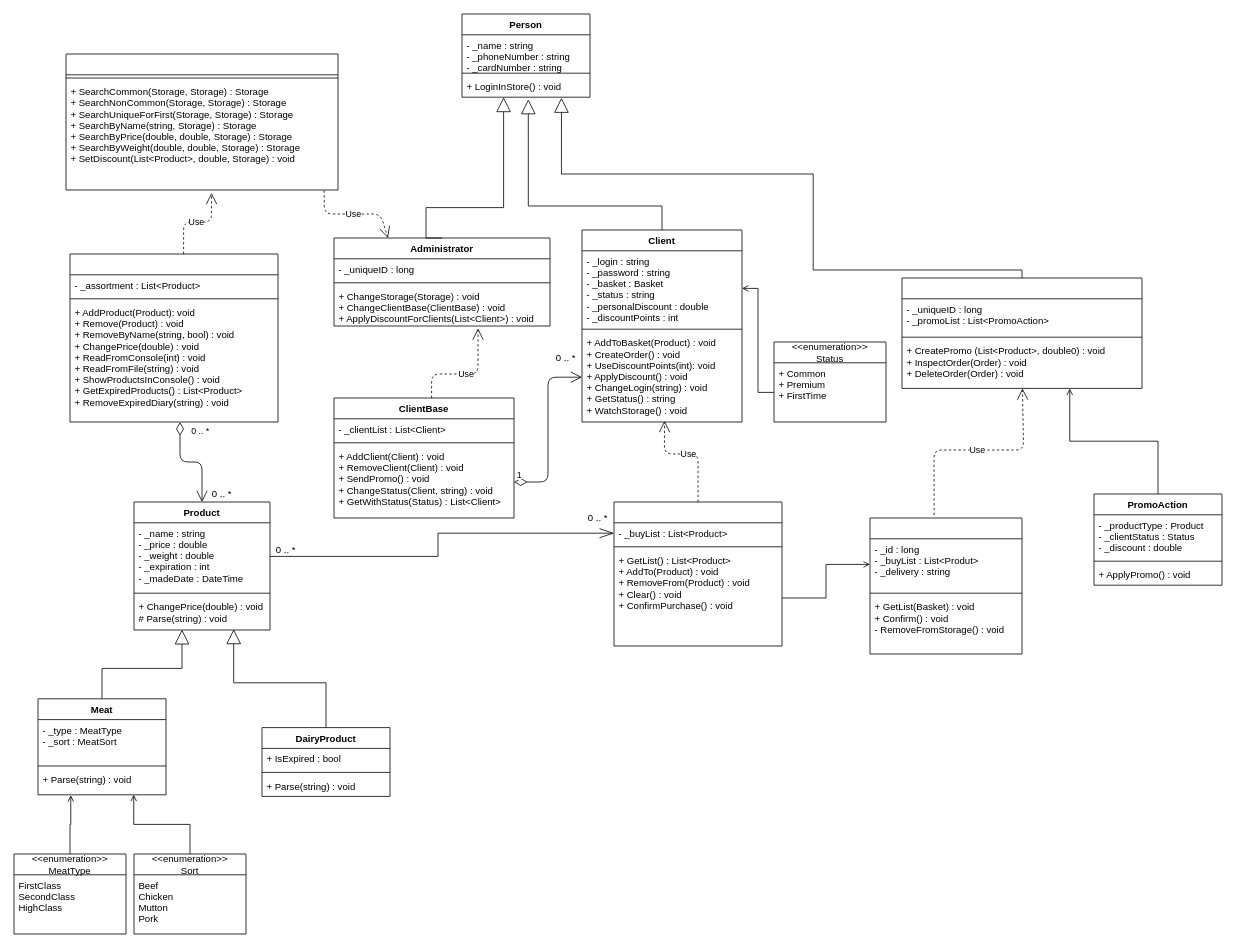
Image size: 1236x950. Some labels were removed from this diagram. Here are the shapes that lost their labels. From the top down, the box of each, then its label:
(65, 53, 338, 190): StorageManager
(69, 253, 278, 422): Storage
(901, 277, 1142, 388): Moderator
(613, 501, 782, 646): Basket
(869, 517, 1022, 654): Order
